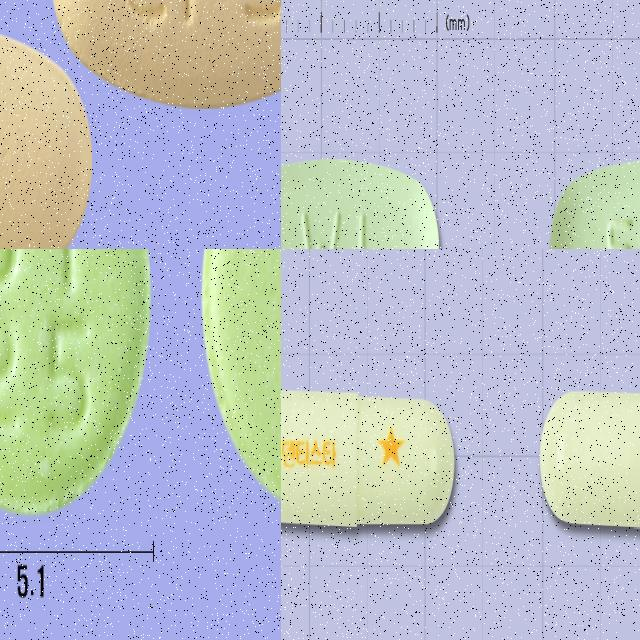Azaprine -25mg: (0, 249, 155, 520), (200, 249, 281, 521)
Clathron: (281, 157, 441, 249), (548, 154, 640, 249)
Crafroxin Tab: (49, 0, 281, 108), (0, 22, 92, 249)
Dentistar Cap: (281, 387, 457, 528), (540, 388, 640, 531)
